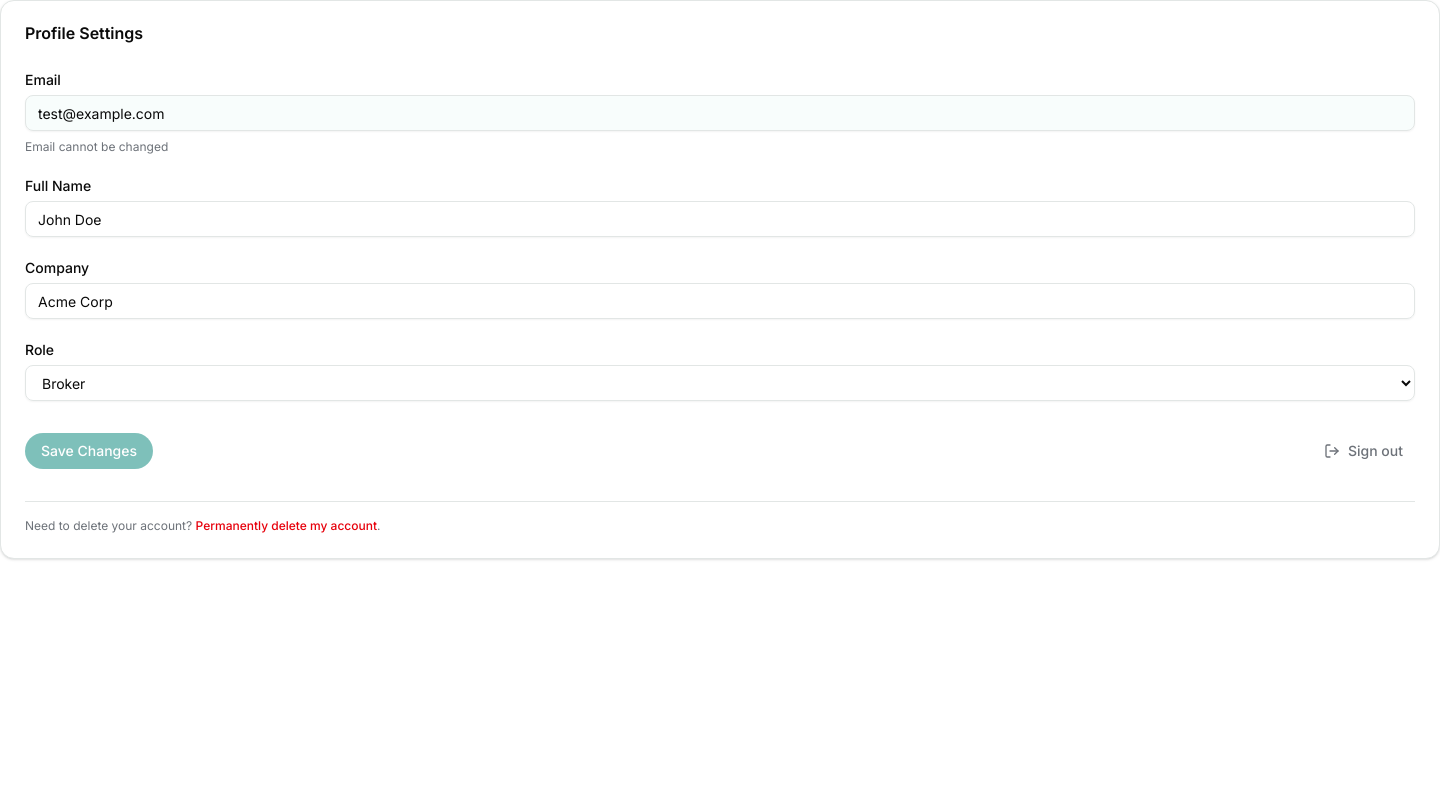
Test: ProfileForm › shows validation error for short name
The width and height of the screenshot is (1440, 810).
Replace the text in the field labelled "Full Name" with "A" at (720, 219), box [25, 201, 1415, 237]
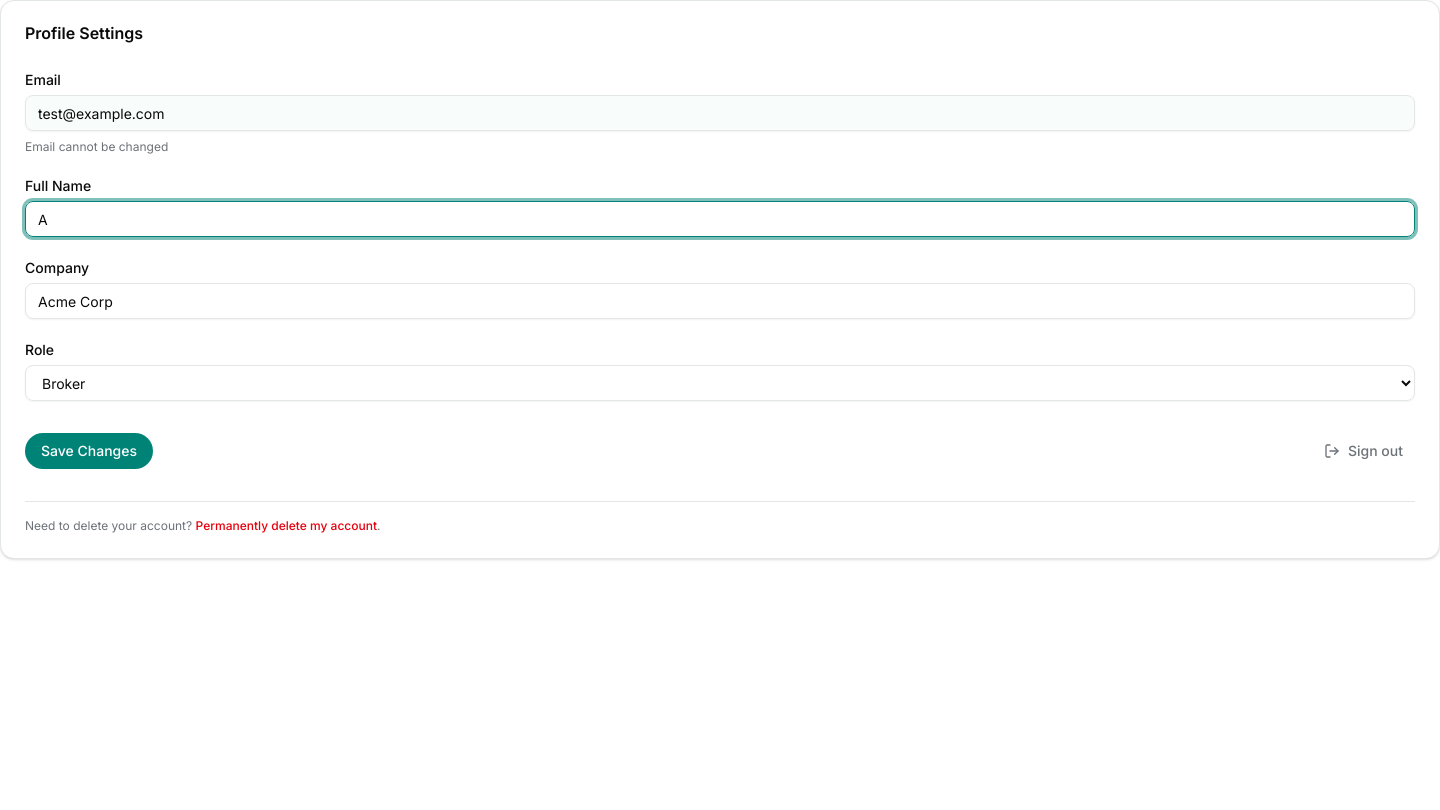
Click the button "Save Changes" at (89, 451), box [25, 433, 153, 469]
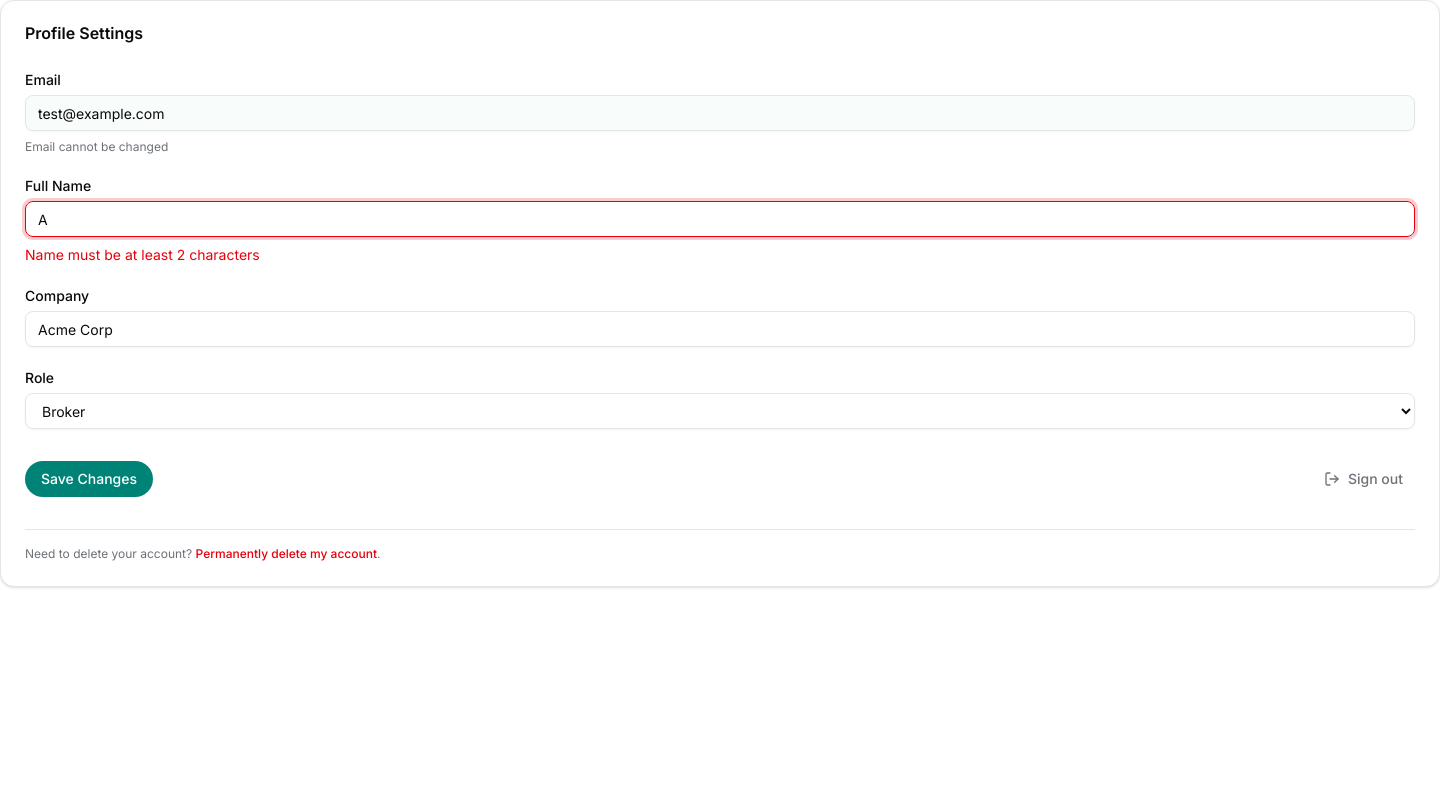
Expected: the message reads "Name must be at least 2 characters", [25, 246, 260, 263]
